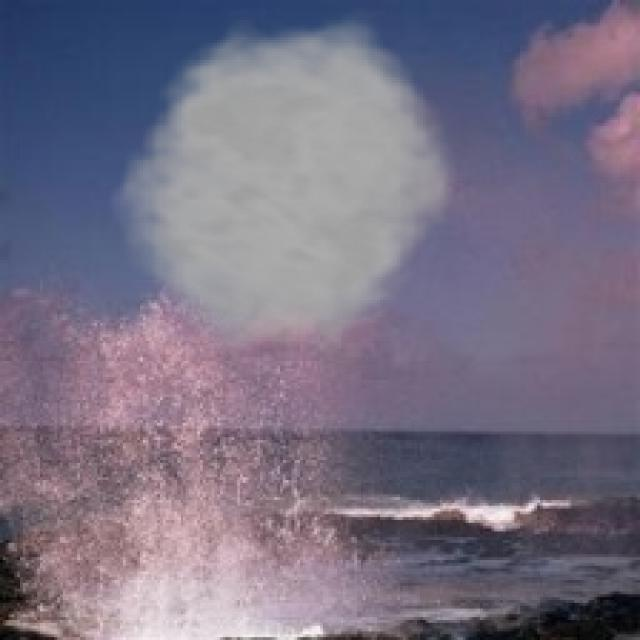smoke: (103, 6, 466, 354)
